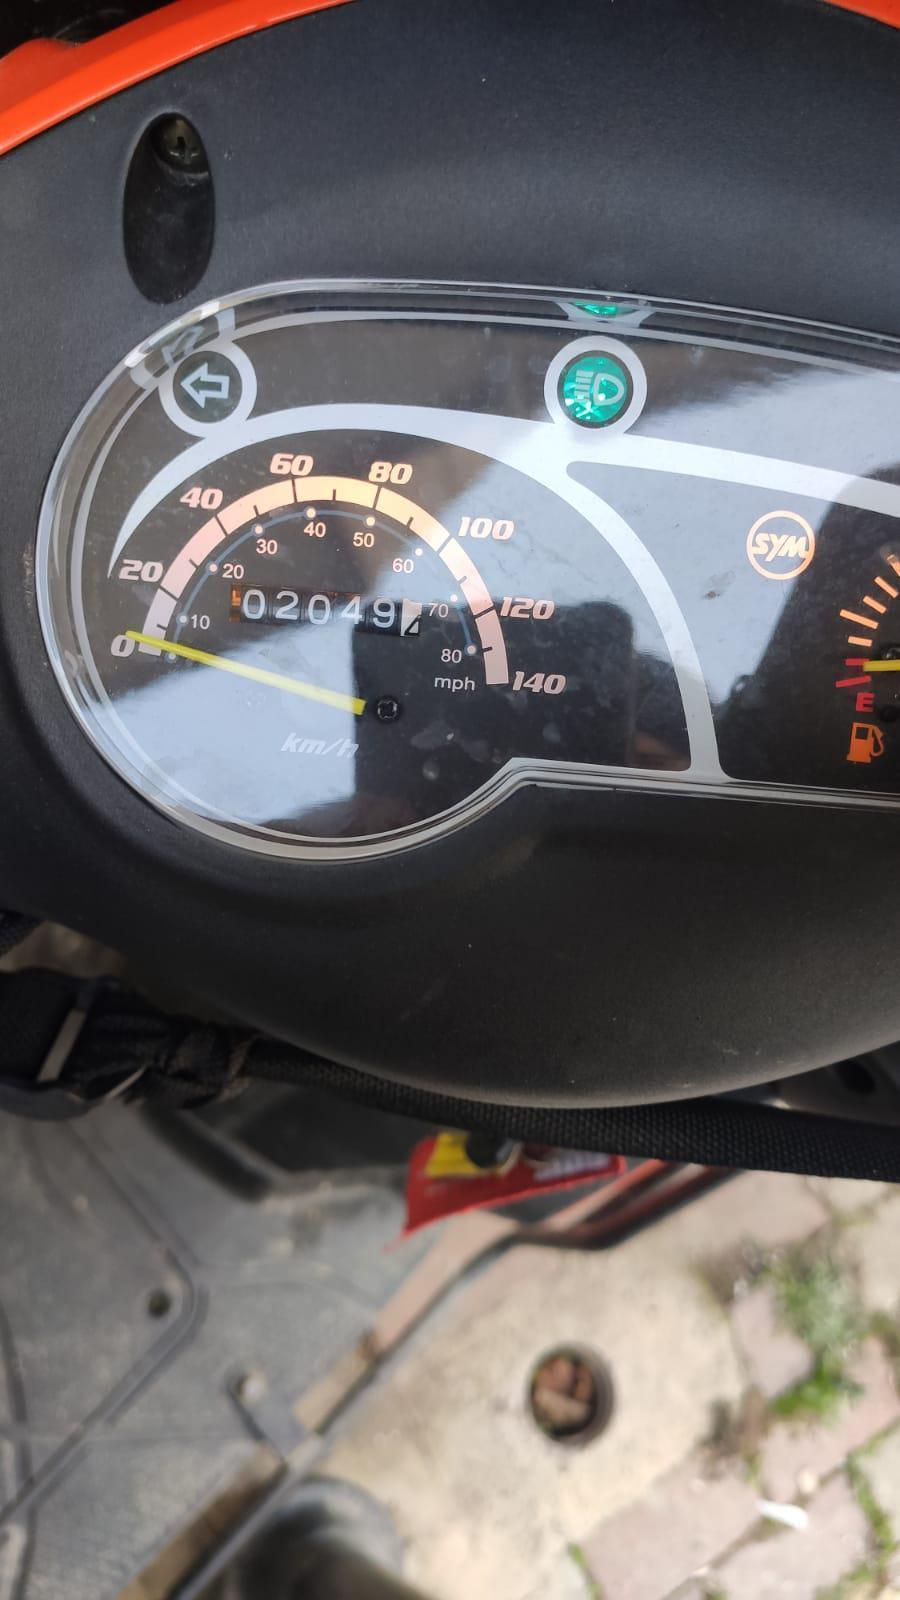0: (238, 585, 267, 621), (305, 589, 332, 625)
2: (273, 586, 299, 623)
4: (338, 592, 364, 625), (401, 609, 424, 638)
9: (371, 596, 397, 630)
odometer: (225, 581, 426, 643)
